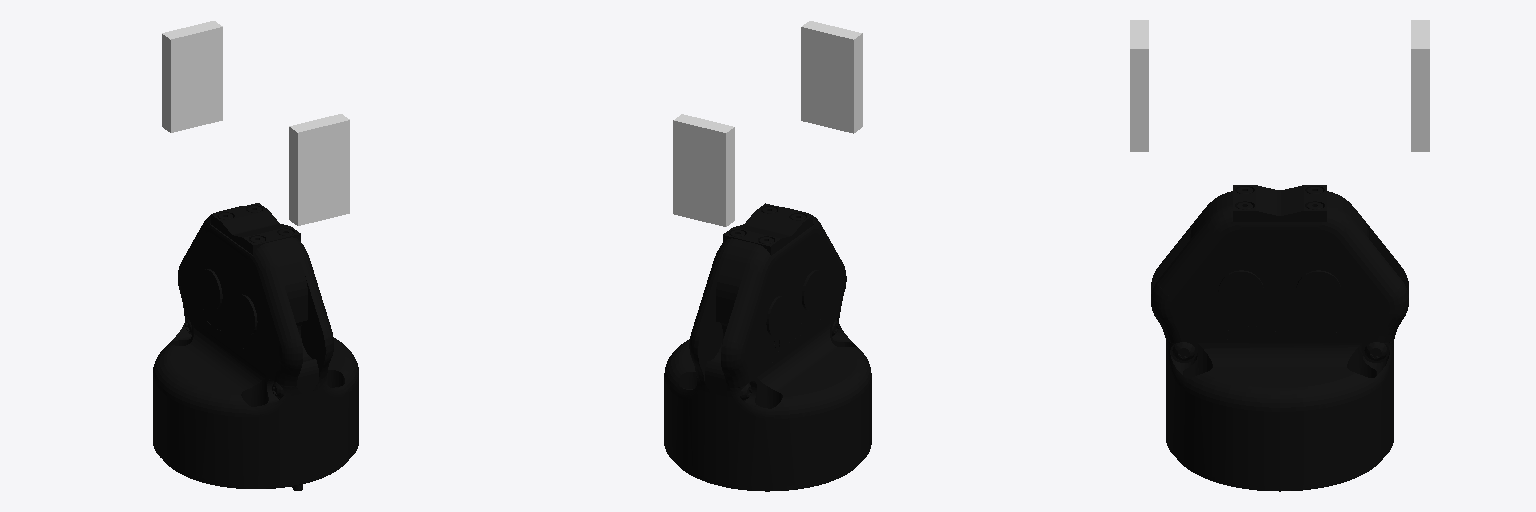
URDF robot description (gripper):
<?xml version="1.0" ?>
<!-- =================================================================================== -->
<!-- |    This document was autogenerated by xacro from robotiq_arg2f_85_model.xacro   | -->
<!-- |    EDITING THIS FILE BY HAND IS NOT RECOMMENDED                                 | -->
<!-- =================================================================================== -->
<robot name="gripper">
  <link name="world"/>
  <link name="robotiq_arg2f_base_link">
    <inertial>
      <origin rpy="0 0 0" xyz="8.625E-08 -4.6583E-06 0.03145"/>
      <mass value="0.22652"/>
      <inertia ixx="0.00020005" ixy="-4.2442E-10" ixz="-2.9069E-10" iyy="0.00017832" iyz="-3.4402E-08" izz="0.00013478"/>
    </inertial>
    <visual>
      <origin rpy="0 0 0" xyz="0 0 0"/>
      <geometry>
        <mesh filename="package://robotiq_2f_85_gripper_visualization/meshes/visual/robotiq_arg2f_85_base_link.stl" scale="0.001 0.001 0.001"/>
      </geometry>
      <material name="">
        <color rgba="0.1 0.1 0.1 1"/>
      </material>
    </visual>
    <collision>
      <origin rpy="0 0 0" xyz="0 0 0"/>
      <geometry>
        <mesh filename="package://robotiq_2f_85_gripper_visualization/meshes/collision/robotiq_arg2f_base_link.stl"/>
      </geometry>
    </collision>
  </link>
  <link name="left_outer_knuckle">
    <inertial>
      <origin rpy="0 0 0" xyz="-0.000200000000003065 0.0199435877845359 0.0292245259211331"/>
      <mass value="0.00853198276973456"/>
      <inertia ixx="2.89328108496468E-06" ixy="-1.57935047237397E-19" ixz="-1.93980378593255E-19" iyy="1.86719750325683E-06" iyz="-1.21858577871576E-06" izz="1.21905238907251E-06"/>
    </inertial>
    <visual>
      <origin rpy="0 0 0" xyz="0 0 0"/>
      <geometry>
        <mesh filename="package://robotiq_2f_85_gripper_visualization/meshes/visual/robotiq_arg2f_85_outer_knuckle.dae" scale="0.001 0.001 0.001"/>
      </geometry>
      <material name="">
        <color rgba="0.792156862745098 0.819607843137255 0.933333333333333 1"/>
      </material>
    </visual>
    <collision>
      <origin rpy="0 0 0" xyz="0 0 0"/>
      <geometry>
        <mesh filename="package://robotiq_2f_85_gripper_visualization/meshes/collision/robotiq_arg2f_85_outer_knuckle.dae" scale="0.001 0.001 0.001"/>
      </geometry>
    </collision>
  </link>
  <link name="left_outer_finger">
    <inertial>
      <origin rpy="0 0 0" xyz="0.00030115855001899 0.0373907951953854 -0.0208027427000385"/>
      <mass value="0.022614240507152"/>
      <inertia ixx="1.52518312458174E-05" ixy="9.76583423954399E-10" ixz="-5.43838577022588E-10" iyy="6.17694243867776E-06" iyz="6.78636130740228E-06" izz="1.16494917907219E-05"/>
    </inertial>
    <visual>
      <origin rpy="0 0 0" xyz="0 0 0"/>
      <geometry>
        <mesh filename="package://robotiq_2f_85_gripper_visualization/meshes/visual/robotiq_arg2f_85_outer_finger.dae" scale="0.001 0.001 0.001"/>
      </geometry>
      <material name="">
        <color rgba="0.1 0.1 0.1 1"/>
      </material>
    </visual>
    <collision>
      <origin rpy="0 0 0" xyz="0 0 0"/>
      <geometry>
        <mesh filename="package://robotiq_2f_85_gripper_visualization/meshes/collision/robotiq_arg2f_85_outer_finger.dae" scale="0.001 0.001 0.001"/>
      </geometry>
    </collision>
  </link>
  <link name="left_inner_finger">
    <inertial>
      <origin rpy="0 0 0" xyz="0.000299999999999317 0.0160078233491243 -0.0136945669206257"/>
      <mass value="0.0104003125914103"/>
      <inertia ixx="2.71909453810972E-06" ixy="1.35402465472579E-21" ixz="-7.1817349065269E-22" iyy="7.69100314106116E-07" iyz="6.74715432769696E-07" izz="2.30315190420171E-06"/>
    </inertial>
    <visual>
      <origin rpy="0 0 0" xyz="0 0 0"/>
      <geometry>
        <mesh filename="package://robotiq_2f_85_gripper_visualization/meshes/visual/robotiq_arg2f_85_inner_finger.dae" scale="0.001 0.001 0.001"/>
      </geometry>
      <material name="">
        <color rgba="0.1 0.1 0.1 1"/>
      </material>
    </visual>
    <collision>
      <origin rpy="0 0 0" xyz="0 0 0"/>
      <geometry>
        <mesh filename="package://robotiq_2f_85_gripper_visualization/meshes/collision/robotiq_arg2f_85_inner_finger.dae" scale="0.001 0.001 0.001"/>
      </geometry>
    </collision>
  </link>
  <gazebo reference="left_inner_finger">
    <mu1>1000</mu1>
    <mu2>1000</mu2>
    <kp>1000000.0</kp>
    <kd>100000.0</kd>
    <slip1>0</slip1>
    <slip2>0</slip2>
    <minDepth>0.000</minDepth>
    <maxVel>0</maxVel>
    <torsional>
      <coefficient>1000</coefficient>
      <ode>
        <slip>0</slip>
      </ode>
    </torsional>
  </gazebo>
  <link name="left_inner_finger_pad">
    <visual>
      <origin rpy="0 0 0" xyz="0 0 0"/>
      <geometry>
        <box size="0.022 0.00635 0.0375"/>
      </geometry>
      <material name="">
        <color rgba="0.9 0.9 0.9 1"/>
      </material>
    </visual>
    <collision name="left_inner_finger_pad_collision">
      <origin rpy="0 0 0" xyz="0 0 0"/>
      <geometry>
        <box size="0.022 0.00635 0.0375"/>
      </geometry>
      <material name="">
        <color rgba="0.9 0.0 0.0 1"/>
      </material>
    </collision>
  </link>
  <gazebo reference="left_inner_finger_pad">
    <sensor name="left_inner_finger_pad_bumper" type="contact">
      <selfCollide>true</selfCollide>
      <alwaysOn>true</alwaysOn>
      <updateRate>5.0</updateRate>
      <material>Gazebo/Red</material>
      <contact>
        <collision>left_inner_finger_pad_collision_collision_1</collision>
      </contact>
    </sensor>
  </gazebo>
  <link name="left_inner_knuckle">
    <inertial>
      <origin rpy="0 0 0" xyz="0.000123011831763771 0.0507850843201817 0.00103968640075166"/>
      <mass value="0.0271177346495152"/>
      <inertia ixx="2.61910379223783E-05" ixy="-2.43616858946494E-07" ixz="-6.37789906117123E-09" iyy="2.8270243746167E-06" iyz="-5.37200748039765E-07" izz="2.83695868220296E-05"/>
    </inertial>
    <visual>
      <origin rpy="0 0 0" xyz="0 0 0"/>
      <geometry>
        <mesh filename="package://robotiq_2f_85_gripper_visualization/meshes/visual/robotiq_arg2f_85_inner_knuckle.dae" scale="0.001 0.001 0.001"/>
      </geometry>
      <material name="">
        <color rgba="0.1 0.1 0.1 1"/>
      </material>
    </visual>
    <collision>
      <origin rpy="0 0 0" xyz="0 0 0"/>
      <geometry>
        <mesh filename="package://robotiq_2f_85_gripper_visualization/meshes/collision/robotiq_arg2f_85_inner_knuckle.dae" scale="0.001 0.001 0.001"/>
      </geometry>
    </collision>
  </link>
  <link name="right_outer_knuckle">
    <inertial>
      <origin rpy="0 0 0" xyz="-0.000200000000003065 0.0199435877845359 0.0292245259211331"/>
      <mass value="0.00853198276973456"/>
      <inertia ixx="2.89328108496468E-06" ixy="-1.57935047237397E-19" ixz="-1.93980378593255E-19" iyy="1.86719750325683E-06" iyz="-1.21858577871576E-06" izz="1.21905238907251E-06"/>
    </inertial>
    <visual>
      <origin rpy="0 0 0" xyz="0 0 0"/>
      <geometry>
        <mesh filename="package://robotiq_2f_85_gripper_visualization/meshes/visual/robotiq_arg2f_85_outer_knuckle.dae" scale="0.001 0.001 0.001"/>
      </geometry>
      <material name="">
        <color rgba="0.792156862745098 0.819607843137255 0.933333333333333 1"/>
      </material>
    </visual>
    <collision>
      <origin rpy="0 0 0" xyz="0 0 0"/>
      <geometry>
        <mesh filename="package://robotiq_2f_85_gripper_visualization/meshes/collision/robotiq_arg2f_85_outer_knuckle.dae" scale="0.001 0.001 0.001"/>
      </geometry>
    </collision>
  </link>
  <link name="right_outer_finger">
    <inertial>
      <origin rpy="0 0 0" xyz="0.00030115855001899 0.0373907951953854 -0.0208027427000385"/>
      <mass value="0.022614240507152"/>
      <inertia ixx="1.52518312458174E-05" ixy="9.76583423954399E-10" ixz="-5.43838577022588E-10" iyy="6.17694243867776E-06" iyz="6.78636130740228E-06" izz="1.16494917907219E-05"/>
    </inertial>
    <visual>
      <origin rpy="0 0 0" xyz="0 0 0"/>
      <geometry>
        <mesh filename="package://robotiq_2f_85_gripper_visualization/meshes/visual/robotiq_arg2f_85_outer_finger.dae" scale="0.001 0.001 0.001"/>
      </geometry>
      <material name="">
        <color rgba="0.1 0.1 0.1 1"/>
      </material>
    </visual>
    <collision>
      <origin rpy="0 0 0" xyz="0 0 0"/>
      <geometry>
        <mesh filename="package://robotiq_2f_85_gripper_visualization/meshes/collision/robotiq_arg2f_85_outer_finger.dae" scale="0.001 0.001 0.001"/>
      </geometry>
    </collision>
  </link>
  <link name="right_inner_finger">
    <inertial>
      <origin rpy="0 0 0" xyz="0.000299999999999317 0.0160078233491243 -0.0136945669206257"/>
      <mass value="0.0104003125914103"/>
      <inertia ixx="2.71909453810972E-06" ixy="1.35402465472579E-21" ixz="-7.1817349065269E-22" iyy="7.69100314106116E-07" iyz="6.74715432769696E-07" izz="2.30315190420171E-06"/>
    </inertial>
    <visual>
      <origin rpy="0 0 0" xyz="0 0 0"/>
      <geometry>
        <mesh filename="package://robotiq_2f_85_gripper_visualization/meshes/visual/robotiq_arg2f_85_inner_finger.dae" scale="0.001 0.001 0.001"/>
      </geometry>
      <material name="">
        <color rgba="0.1 0.1 0.1 1"/>
      </material>
    </visual>
    <collision>
      <origin rpy="0 0 0" xyz="0 0 0"/>
      <geometry>
        <mesh filename="package://robotiq_2f_85_gripper_visualization/meshes/collision/robotiq_arg2f_85_inner_finger.dae" scale="0.001 0.001 0.001"/>
      </geometry>
    </collision>
  </link>
  <gazebo reference="right_inner_finger">
    <mu1>1000</mu1>
    <mu2>1000</mu2>
    <kp>1000000.0</kp>
    <kd>100000.0</kd>
    <slip1>0</slip1>
    <slip2>0</slip2>
    <minDepth>0.000</minDepth>
    <maxVel>0</maxVel>
    <torsional>
      <coefficient>1000</coefficient>
      <ode>
        <slip>0</slip>
      </ode>
    </torsional>
  </gazebo>
  <link name="right_inner_finger_pad">
    <visual>
      <origin rpy="0 0 0" xyz="0 0 0"/>
      <geometry>
        <box size="0.022 0.00635 0.0375"/>
      </geometry>
      <material name="">
        <color rgba="0.9 0.9 0.9 1"/>
      </material>
    </visual>
    <collision name="right_inner_finger_pad_collision">
      <origin rpy="0 0 0" xyz="0 0 0"/>
      <geometry>
        <box size="0.022 0.00635 0.0375"/>
      </geometry>
      <material name="">
        <color rgba="0.9 0.0 0.0 1"/>
      </material>
    </collision>
  </link>
  <gazebo reference="right_inner_finger_pad">
    <sensor name="right_inner_finger_pad_bumper" type="contact">
      <selfCollide>true</selfCollide>
      <alwaysOn>true</alwaysOn>
      <updateRate>5.0</updateRate>
      <material>Gazebo/Red</material>
      <contact>
        <collision>right_inner_finger_pad_collision_collision_1</collision>
      </contact>
    </sensor>
  </gazebo>
  <link name="right_inner_knuckle">
    <inertial>
      <origin rpy="0 0 0" xyz="0.000123011831763771 0.0507850843201817 0.00103968640075166"/>
      <mass value="0.0271177346495152"/>
      <inertia ixx="2.61910379223783E-05" ixy="-2.43616858946494E-07" ixz="-6.37789906117123E-09" iyy="2.8270243746167E-06" iyz="-5.37200748039765E-07" izz="2.83695868220296E-05"/>
    </inertial>
    <visual>
      <origin rpy="0 0 0" xyz="0 0 0"/>
      <geometry>
        <mesh filename="package://robotiq_2f_85_gripper_visualization/meshes/visual/robotiq_arg2f_85_inner_knuckle.dae" scale="0.001 0.001 0.001"/>
      </geometry>
      <material name="">
        <color rgba="0.1 0.1 0.1 1"/>
      </material>
    </visual>
    <collision>
      <origin rpy="0 0 0" xyz="0 0 0"/>
      <geometry>
        <mesh filename="package://robotiq_2f_85_gripper_visualization/meshes/collision/robotiq_arg2f_85_inner_knuckle.dae" scale="0.001 0.001 0.001"/>
      </geometry>
    </collision>
  </link>
  <joint name="finger_joint" type="revolute">
    <origin rpy="0 0 3.141592653589793" xyz="0 -0.0306011 0.054904"/>
    <parent link="robotiq_arg2f_base_link"/>
    <child link="left_outer_knuckle"/>
    <axis xyz="1 0 0"/>
    <limit effort="1000" lower="0" upper="0.8" velocity="2.0"/>
  </joint>
  <joint name="left_outer_finger_joint" type="fixed">
    <origin rpy="0 0 0" xyz="0 0.0315 -0.0041"/>
    <parent link="left_outer_knuckle"/>
    <child link="left_outer_finger"/>
    <axis xyz="1 0 0"/>
  </joint>
  <joint name="left_inner_knuckle_joint" type="revolute">
    <!-- <origin xyz="0 ${reflect * -0.0127} 0.06142" rpy="${pi / 2 + .725} 0 ${(reflect - 1) * pi / 2}" /> -->
    <origin rpy="0 0 3.141592653589793" xyz="0 -0.0127 0.06142"/>
    <parent link="robotiq_arg2f_base_link"/>
    <child link="left_inner_knuckle"/>
    <axis xyz="1 0 0"/>
    <limit effort="1000" lower="0" upper="0.8757" velocity="2.0"/>
    <mimic joint="finger_joint" multiplier="1" offset="0"/>
  </joint>
  <joint name="left_inner_finger_joint" type="revolute">
    <origin rpy="0 0 0" xyz="0 0.0061 0.0471"/>
    <parent link="left_outer_finger"/>
    <child link="left_inner_finger"/>
    <axis xyz="1 0 0"/>
    <limit effort="1000" lower="-0.8757" upper="0.8757" velocity="2.0"/>
    <mimic joint="finger_joint" multiplier="-1" offset="0"/>
  </joint>
  <joint name="left_inner_finger_pad_joint" type="fixed">
    <origin rpy="0 0 0" xyz="0 -0.0220203446692936 0.03242"/>
    <parent link="left_inner_finger"/>
    <child link="left_inner_finger_pad"/>
    <axis xyz="0 0 1"/>
  </joint>
  <joint name="right_outer_knuckle_joint" type="revolute">
    <origin rpy="0 0 0" xyz="0 0.0306011 0.054904"/>
    <parent link="robotiq_arg2f_base_link"/>
    <child link="right_outer_knuckle"/>
    <axis xyz="1 0 0"/>
    <limit effort="1000" lower="0" upper="0.81" velocity="2.0"/>
    <mimic joint="finger_joint" multiplier="1" offset="0"/>
  </joint>
  <joint name="right_outer_finger_joint" type="fixed">
    <origin rpy="0 0 0" xyz="0 0.0315 -0.0041"/>
    <parent link="right_outer_knuckle"/>
    <child link="right_outer_finger"/>
    <axis xyz="1 0 0"/>
  </joint>
  <joint name="right_inner_knuckle_joint" type="revolute">
    <!-- <origin xyz="0 ${reflect * -0.0127} 0.06142" rpy="${pi / 2 + .725} 0 ${(reflect - 1) * pi / 2}" /> -->
    <origin rpy="0 0 0.0" xyz="0 0.0127 0.06142"/>
    <parent link="robotiq_arg2f_base_link"/>
    <child link="right_inner_knuckle"/>
    <axis xyz="1 0 0"/>
    <limit effort="1000" lower="0" upper="0.8757" velocity="2.0"/>
    <mimic joint="finger_joint" multiplier="1" offset="0"/>
  </joint>
  <joint name="right_inner_finger_joint" type="revolute">
    <origin rpy="0 0 0" xyz="0 0.0061 0.0471"/>
    <parent link="right_outer_finger"/>
    <child link="right_inner_finger"/>
    <axis xyz="1 0 0"/>
    <limit effort="1000" lower="-0.8757" upper="0.8757" velocity="2.0"/>
    <mimic joint="finger_joint" multiplier="-1" offset="0"/>
  </joint>
  <joint name="right_inner_finger_pad_joint" type="fixed">
    <origin rpy="0 0 0" xyz="0 -0.0220203446692936 0.03242"/>
    <parent link="right_inner_finger"/>
    <child link="right_inner_finger_pad"/>
    <axis xyz="0 0 1"/>
  </joint>
  <transmission name="finger_joint_trans">
    <type>transmission_interface/SimpleTransmission</type>
    <joint name="finger_joint">
      <hardwareInterface>hardware_interface/PositionJointInterface</hardwareInterface>
    </joint>
    <actuator name="finger_joint_motor">
      <mechanicalReduction>1</mechanicalReduction>
      <hardwareInterface>hardware_interface/PositionJointInterface</hardwareInterface>
    </actuator>
  </transmission>
  <!-- loading plugin: mimic joints works in gazebo now-->
  <gazebo>
    <plugin filename="libroboticsgroup_gazebo_mimic_joint_plugin.so" name="mimic_robotiq_85_4">
      <joint>finger_joint</joint>
      <mimicJoint>right_outer_knuckle_joint</mimicJoint>
      <multiplier>1.0</multiplier>
    </plugin>
    <plugin filename="libroboticsgroup_gazebo_mimic_joint_plugin.so" name="mimic_robotiq_85_2">
      <joint>finger_joint</joint>
      <mimicJoint>left_inner_finger_joint</mimicJoint>
      <multiplier>-1.0</multiplier>
    </plugin>
    <plugin filename="libroboticsgroup_gazebo_mimic_joint_plugin.so" name="mimic_robotiq_85_1">
      <joint>finger_joint</joint>
      <mimicJoint>right_inner_finger_joint</mimicJoint>
      <multiplier>-1.0</multiplier>
    </plugin>
    <plugin filename="libroboticsgroup_gazebo_mimic_joint_plugin.so" name="mimic_robotiq_85_3">
      <joint>finger_joint</joint>
      <mimicJoint>left_inner_knuckle_joint</mimicJoint>
      <multiplier>1.0</multiplier>
    </plugin>
    <plugin filename="libroboticsgroup_gazebo_mimic_joint_plugin.so" name="mimic_robotiq_85_5">
      <joint>finger_joint</joint>
      <mimicJoint>right_inner_knuckle_joint</mimicJoint>
      <multiplier>1.0</multiplier>
    </plugin>
  </gazebo>
  <joint name="gripper_joint" type="fixed">
    <parent link="world"/>
    <child link="robotiq_arg2f_base_link"/>
    <origin rpy="0 0 0" xyz="0 0 0.01"/>
  </joint>
</robot>

--- What the picture shows (computed from the rendered views, not written in the file) ---
Views: 3 orthographic renders of the robot side by side, from view 1: azimuth 30°, elevation 25°; view 2: azimuth 150°, elevation 25°; view 3: azimuth 270°, elevation 25°.
Robot: gripper — 12 links, 11 joints (6 revolute, 5 fixed); root link world; default pose: every joint at zero.
Visible links, largest first — view 1: robotiq_arg2f_base_link, right_inner_finger_pad, left_inner_finger_pad; view 2: robotiq_arg2f_base_link, right_inner_finger_pad, left_inner_finger_pad; view 3: robotiq_arg2f_base_link, left_inner_finger_pad, right_inner_finger_pad.
Link boxes in pixels (box(x1,y1,x2,y2)): robotiq_arg2f_base_link: box(153, 203, 358, 490); right_inner_finger_pad: box(162, 21, 222, 132); left_inner_finger_pad: box(289, 114, 349, 225); robotiq_arg2f_base_link: box(664, 203, 871, 491); right_inner_finger_pad: box(673, 114, 734, 226); left_inner_finger_pad: box(801, 21, 862, 133); robotiq_arg2f_base_link: box(1151, 185, 1408, 491); left_inner_finger_pad: box(1130, 20, 1148, 151); right_inner_finger_pad: box(1411, 20, 1429, 151).
Size in the robot's own frame: 0.075 by 0.0987 by 0.1531 metres.
Meshes: 5 distinct files referenced, 1 mesh visuals loaded (1 binary STL); not drawn: 8 (reference not matched to a file when rendering).